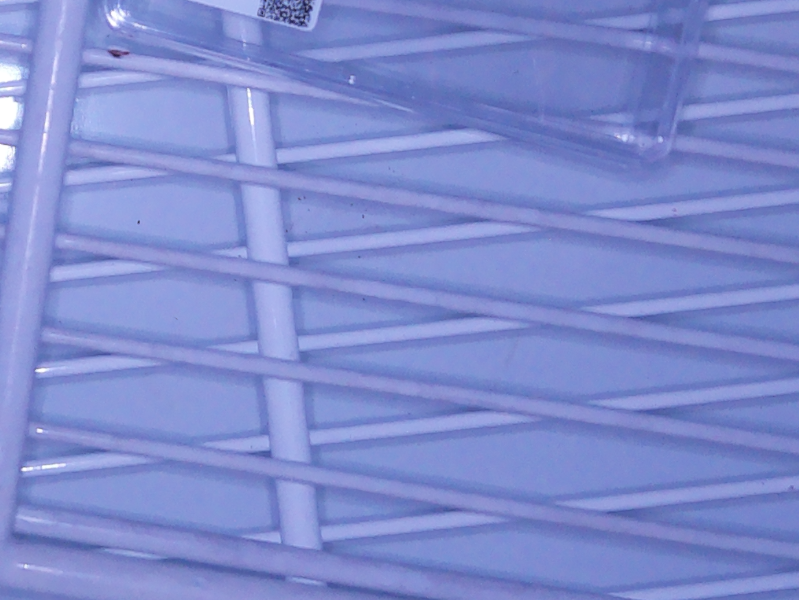plate: (97, 1, 711, 177)
